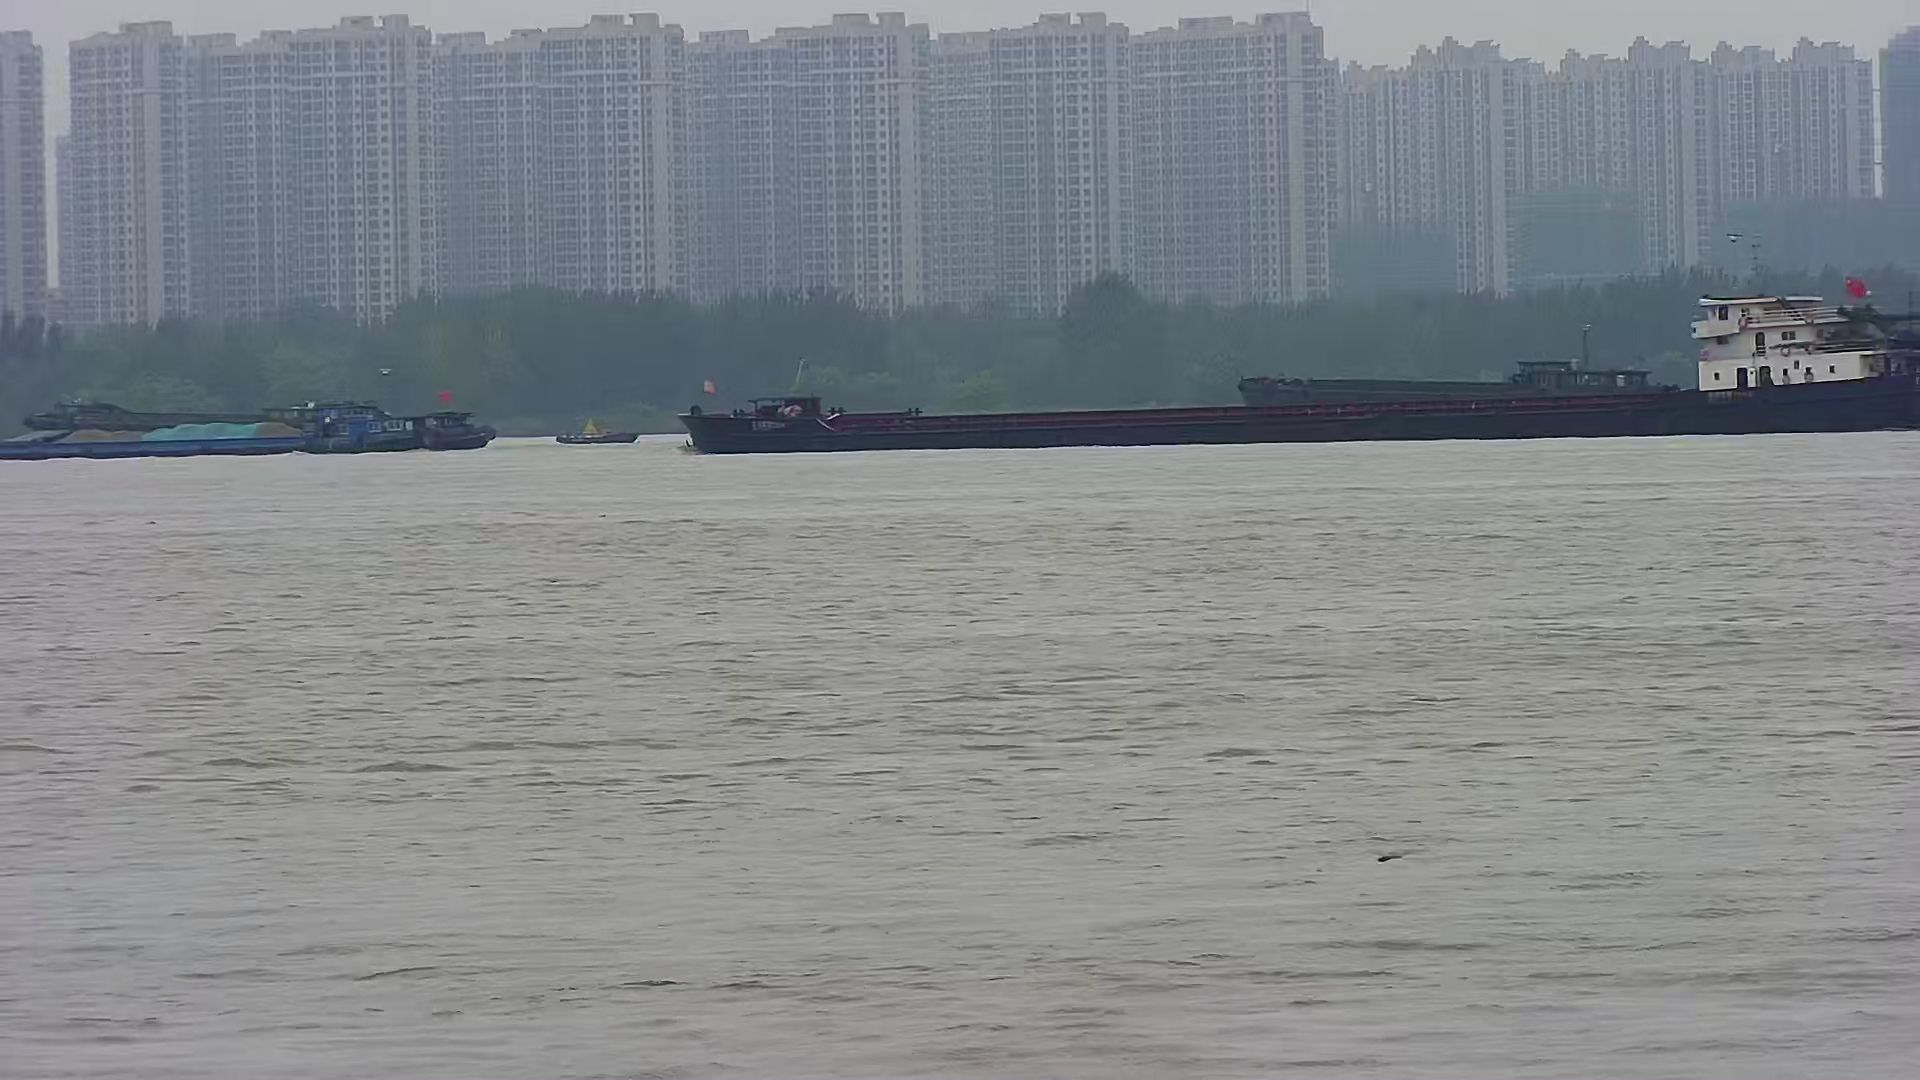boat: (549, 413, 641, 444)
ship: (678, 270, 1919, 454), (3, 386, 496, 462), (1236, 347, 1650, 433)
